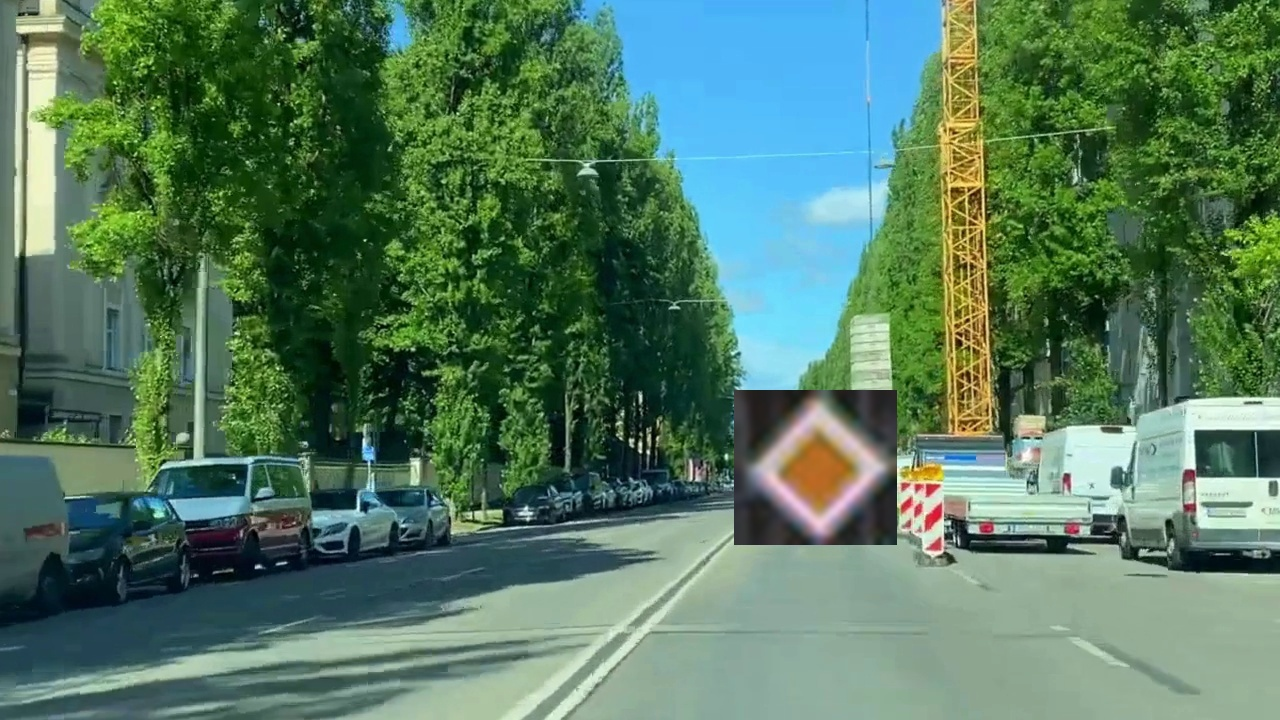Priority road: (734, 390, 897, 545)
